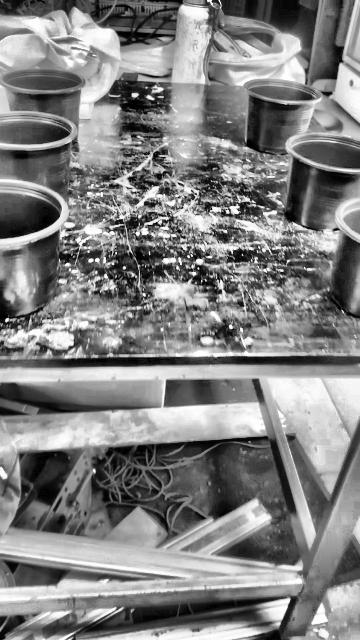pot: (1, 181, 65, 321), (285, 135, 360, 232), (0, 111, 77, 201), (245, 81, 322, 155), (0, 69, 85, 128), (333, 209, 359, 319)
